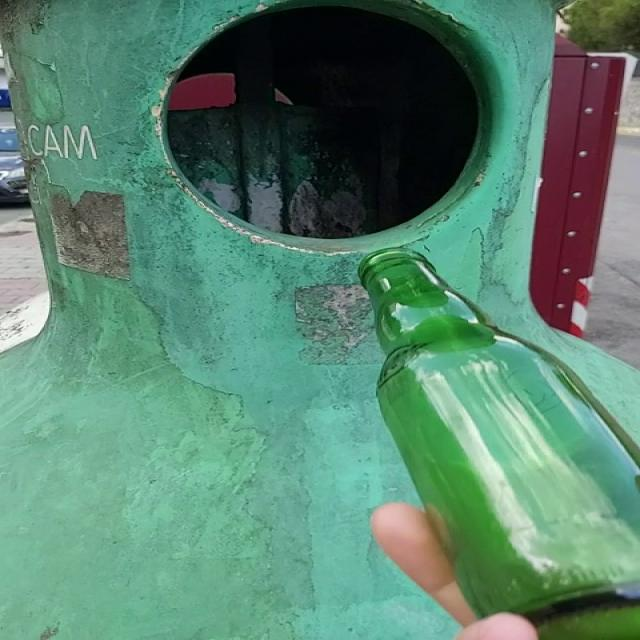glass: (359, 248, 640, 640)
